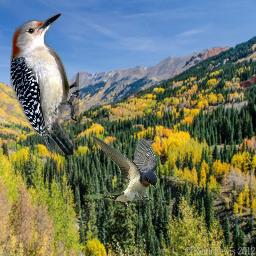Swallow: (83, 133, 158, 212)
Woodpecker: (10, 13, 79, 155)
